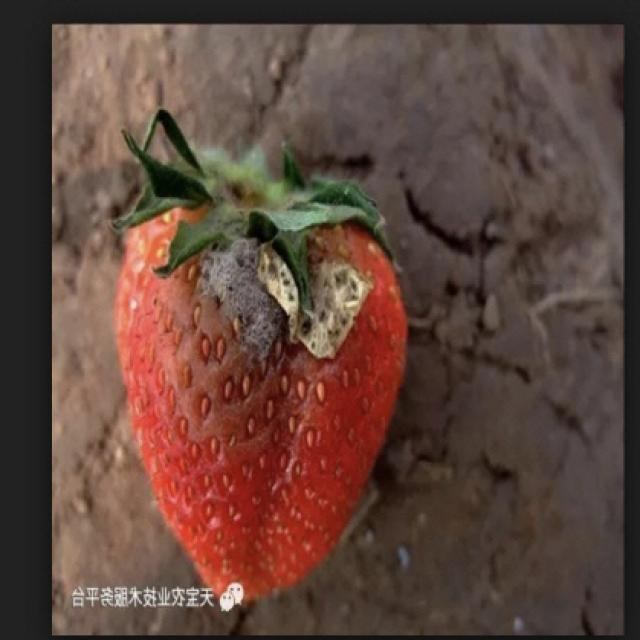Gray Mold: (142, 224, 381, 459)
